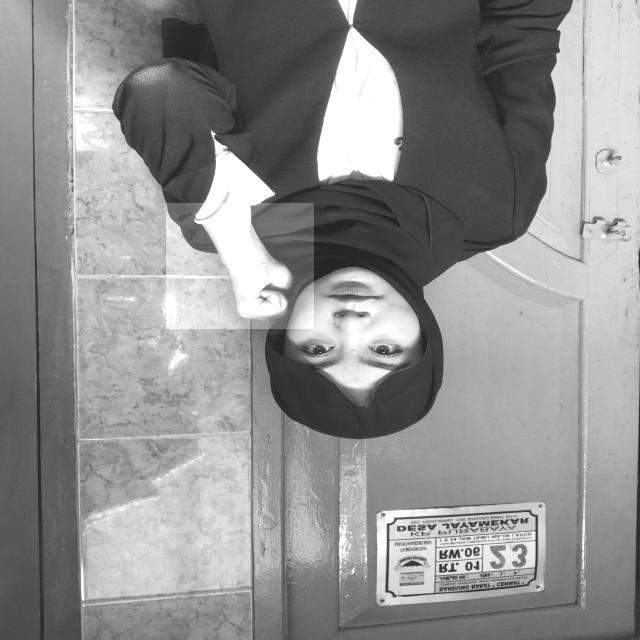ibu: (166, 203, 314, 329)
